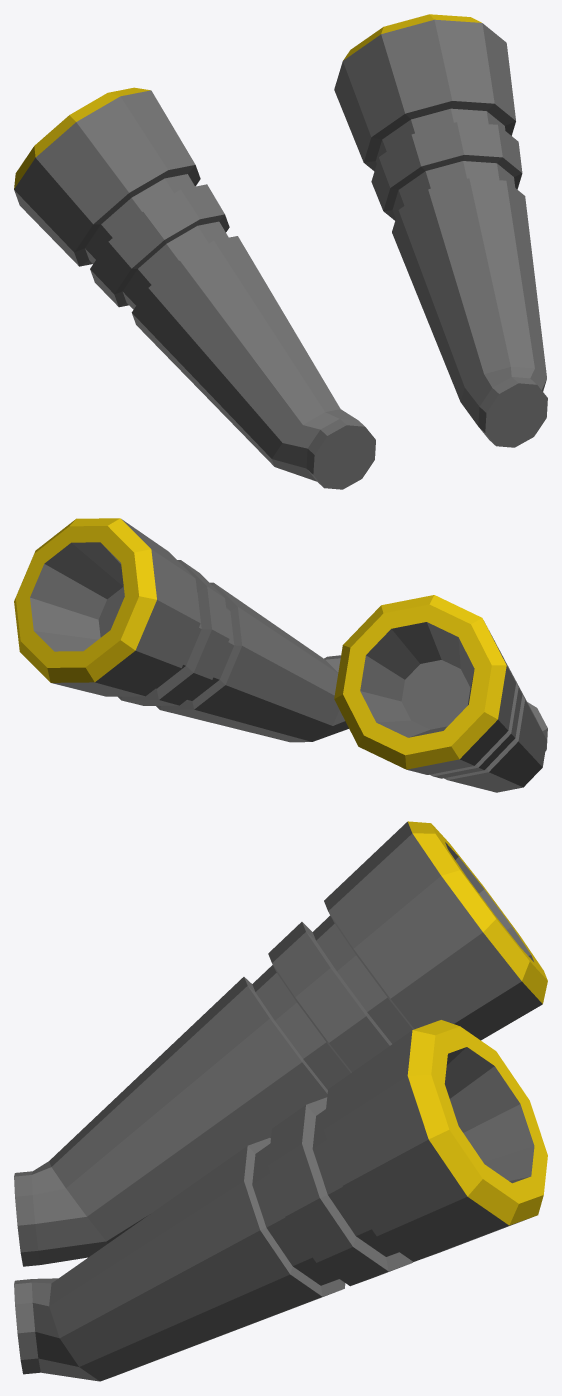
Rendered from Catalysts2.fbx.
3 renders of one model, top to bottom at view 1: azimuth 30°, elevation 25°; view 2: azimuth 150°, elevation 25°; view 3: azimuth 270°, elevation 25°, orthographic. The views are drawn at different scales.
Visible parts, largest first — view 1: Catalysts2; view 2: Catalysts2; view 3: Catalysts2.
Boxes of the visible parts, x1,y1,x2,y2 form: Catalysts2: (14,14,547,489); Catalysts2: (14,518,547,792); Catalysts2: (14,821,547,1381).
Bounding box in the file's own units: 528 × 313 × 393.
